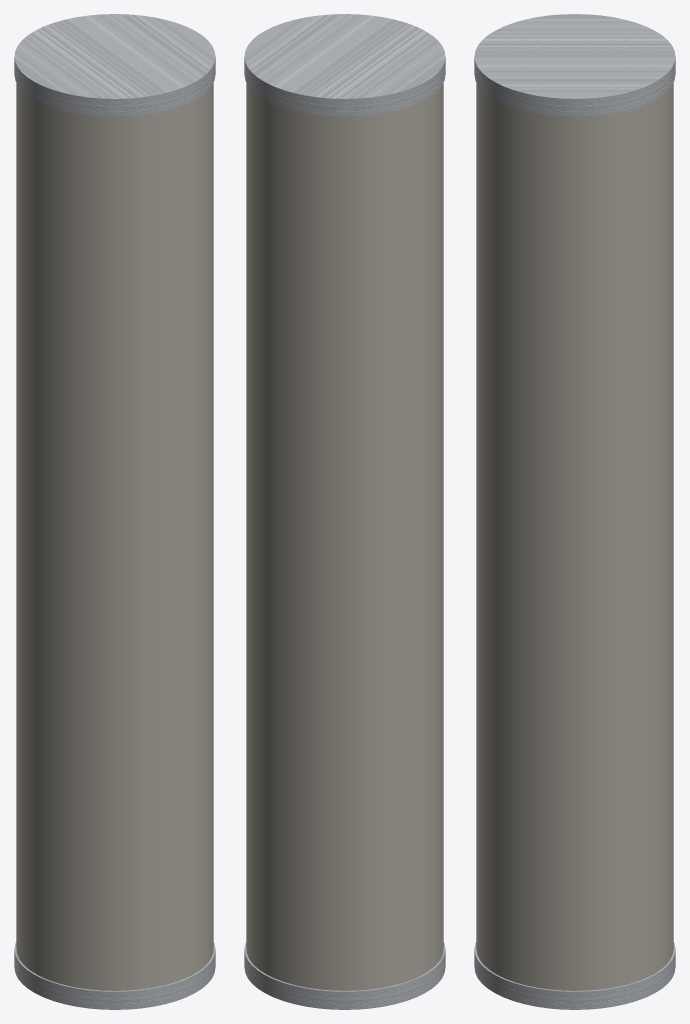
Rendered from pillar-thick.glb.
The picture shows the model from 3 angles, left to right: view 1: azimuth 30°, elevation 25°; view 2: azimuth 150°, elevation 25°; view 3: azimuth 270°, elevation 25°; orthographic projection.
Visible parts, largest first — view 1: canonical; view 2: canonical; view 3: canonical.
Part boxes in pixels (x1,y1,x2,y2): canonical: (14,14,215,1009); canonical: (244,14,445,1009); canonical: (474,14,675,1009).
Bounding box in the file's own units: 1 × 5 × 1.
Materials: 2 (1 with a texture image).
